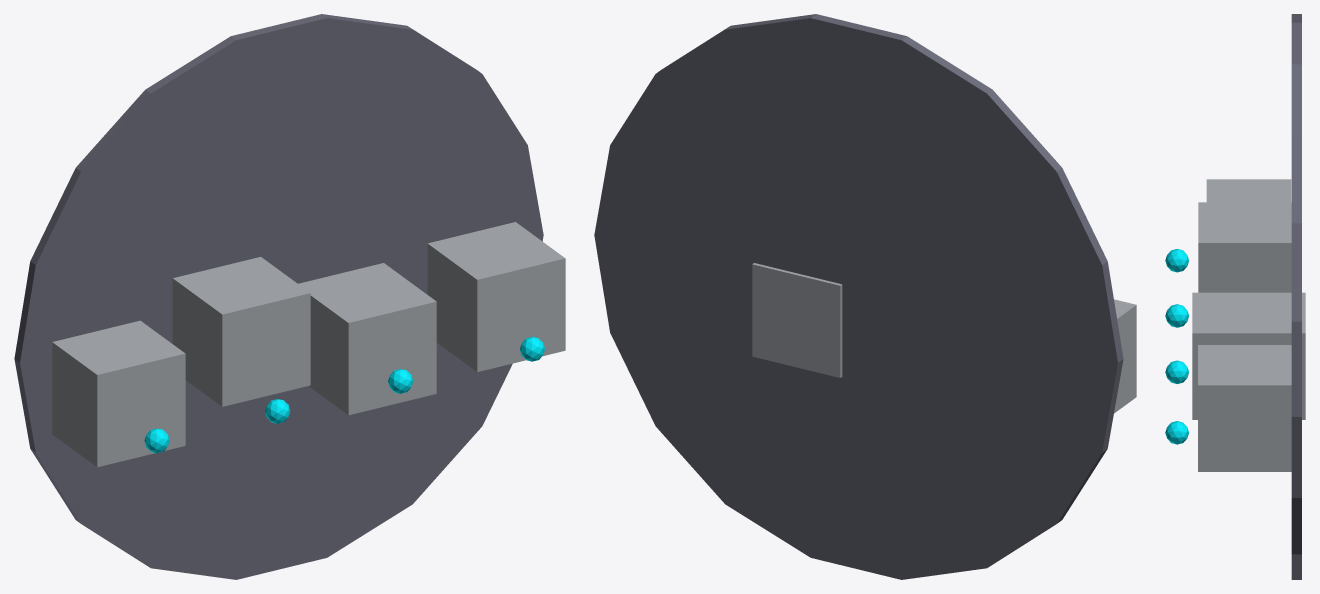
Rendered from 03_ambient_object_cluster.glb.
The picture shows the model from 3 angles, left to right: view 1: azimuth 30°, elevation 25°; view 2: azimuth 150°, elevation 25°; view 3: azimuth 270°, elevation 25°; orthographic projection. The views are drawn at different scales.
Parts seen in each view (by area): view 1: scatter_base, tech_crate_1, tech_crate_3, tech_crate_2, tech_crate_0; view 2: scatter_base, tech_crate_2, tech_crate_0; view 3: tech_crate_3, tech_crate_1, tech_crate_2, scatter_base, tech_crate_0, status_light_1, status_light_0, status_light_2, status_light_3.
Boxes of the visible parts, x1=… form: scatter_base: x1=14, y1=14, x2=543, y2=579; tech_crate_1: x1=172, y1=257, x2=310, y2=406; tech_crate_3: x1=427, y1=222, x2=565, y2=371; tech_crate_2: x1=298, y1=263, x2=436, y2=415; tech_crate_0: x1=52, y1=320, x2=185, y2=467; scatter_base: x1=594, y1=14, x2=1123, y2=579; tech_crate_2: x1=752, y1=263, x2=842, y2=377; tech_crate_0: x1=1114, y1=299, x2=1136, y2=413; tech_crate_3: x1=1198, y1=345, x2=1291, y2=471; tech_crate_1: x1=1198, y1=202, x2=1291, y2=292; tech_crate_2: x1=1192, y1=292, x2=1305, y2=419; scatter_base: x1=1291, y1=14, x2=1301, y2=579; tech_crate_0: x1=1206, y1=179, x2=1291, y2=202; status_light_1: x1=1165, y1=304, x2=1188, y2=327; status_light_0: x1=1165, y1=249, x2=1188, y2=272; status_light_2: x1=1165, y1=360, x2=1188, y2=383; status_light_3: x1=1165, y1=421, x2=1188, y2=444.
Bounding box in the file's own units: 1.9 × 1.87 × 0.4697.
